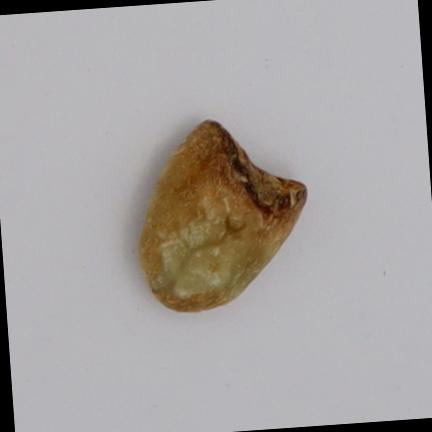cut: (139, 120, 306, 311)
